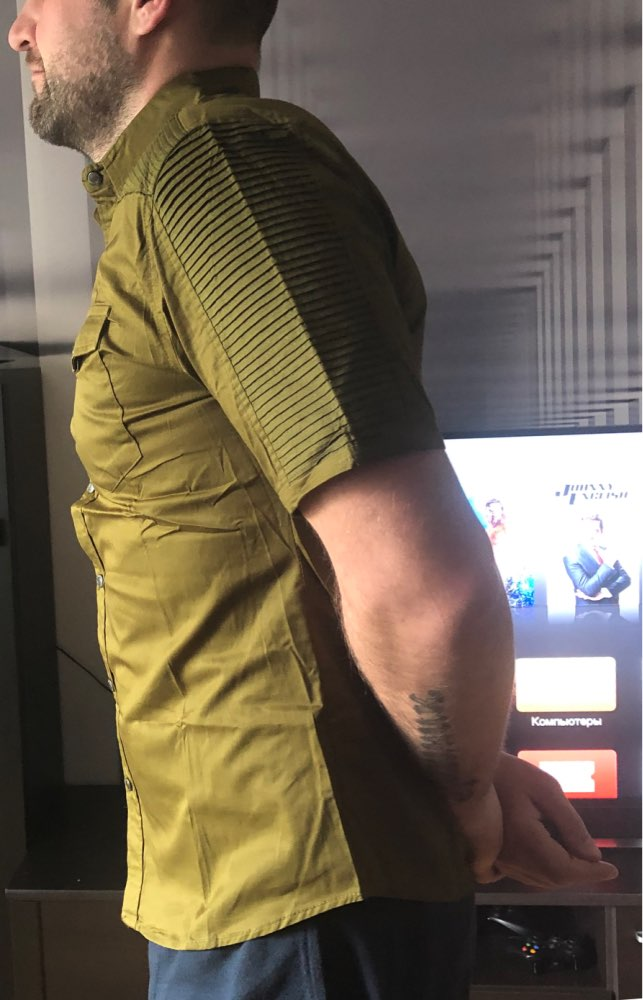shirts: (54, 104, 499, 937)
